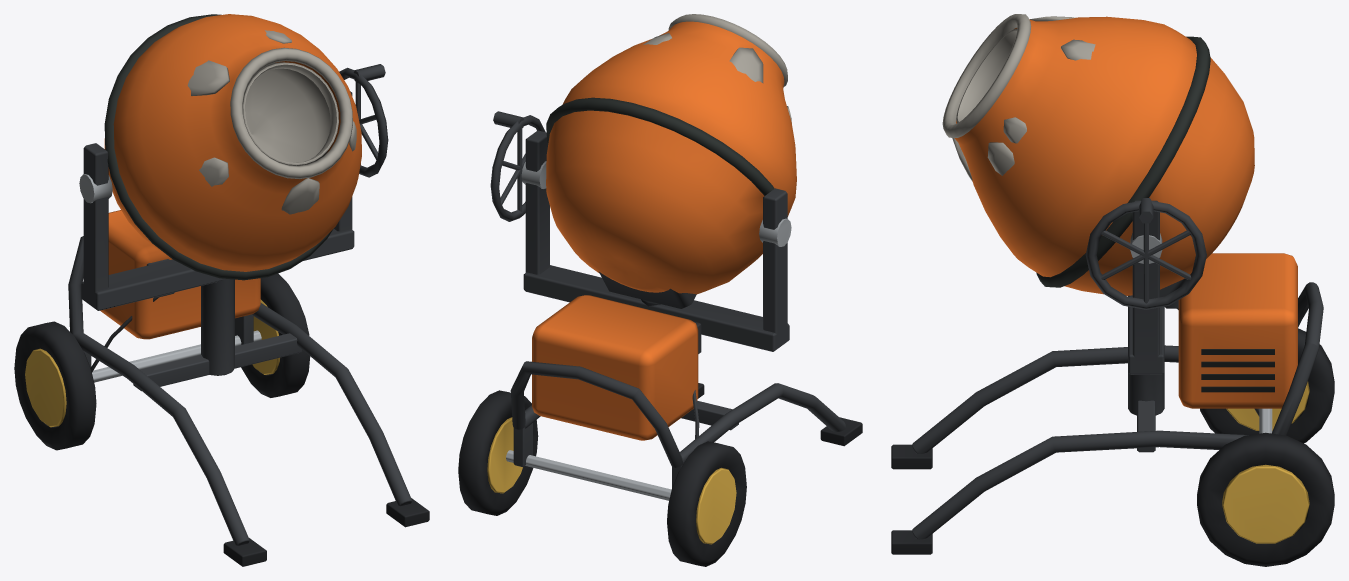
File: cementMixer.glb
3 renders of one model, left to right at view 1: azimuth 30°, elevation 25°; view 2: azimuth 150°, elevation 25°; view 3: azimuth 270°, elevation 25°, orthographic. The views are drawn at different scales.
Parts seen in each view (by area): view 1: cementMixer; view 2: cementMixer; view 3: cementMixer.
Boxes of the visible parts, x1,y1,x2,y2 form: cementMixer: (14,14,429,566); cementMixer: (458,14,862,566); cementMixer: (891,14,1334,566).
Size of the model in its own units: 0.8 by 1.16 by 0.965.
